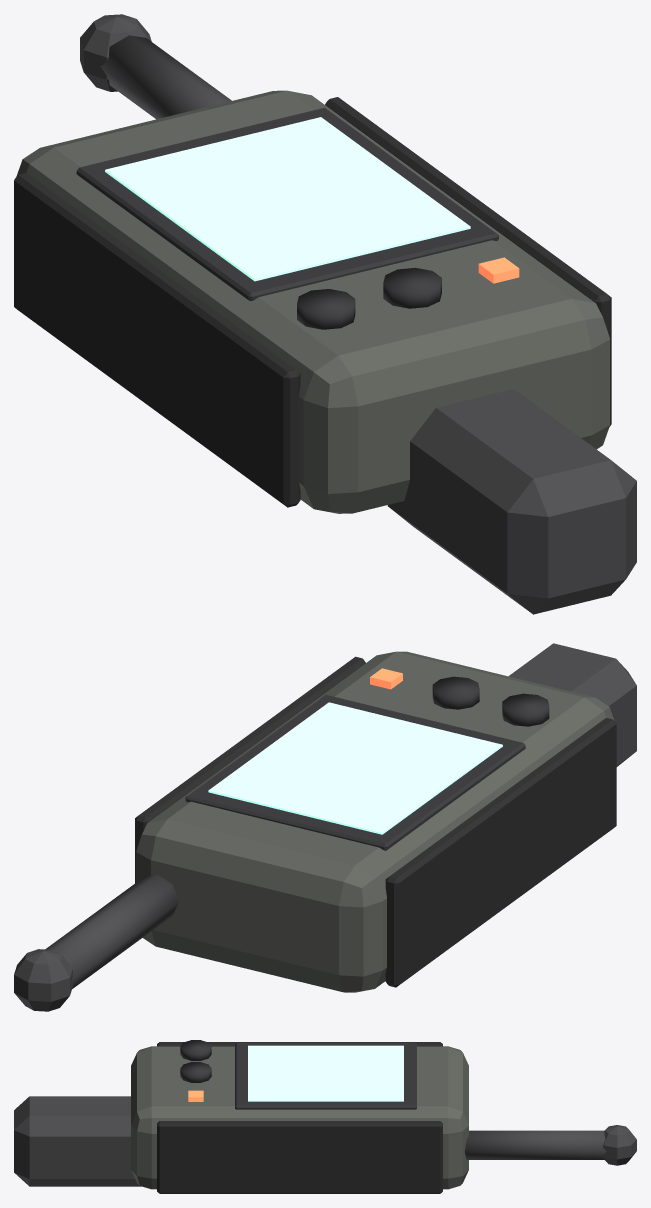
The model's file is scanner.glb.
3 views of the same model, one above another, from view 1: azimuth 30°, elevation 25°; view 2: azimuth 150°, elevation 25°; view 3: azimuth 270°, elevation 25° (orthographic). The views are drawn at different scales.
Parts seen in each view (by area): view 1: Scanner; view 2: Scanner; view 3: Scanner.
Boxes of the visible parts, bbox=[...] form: Scanner: bbox=[14, 14, 636, 614]; Scanner: bbox=[14, 643, 636, 1011]; Scanner: bbox=[14, 1040, 636, 1193].
Size of the model in its own units: 0.076 by 0.046 by 0.2396.
